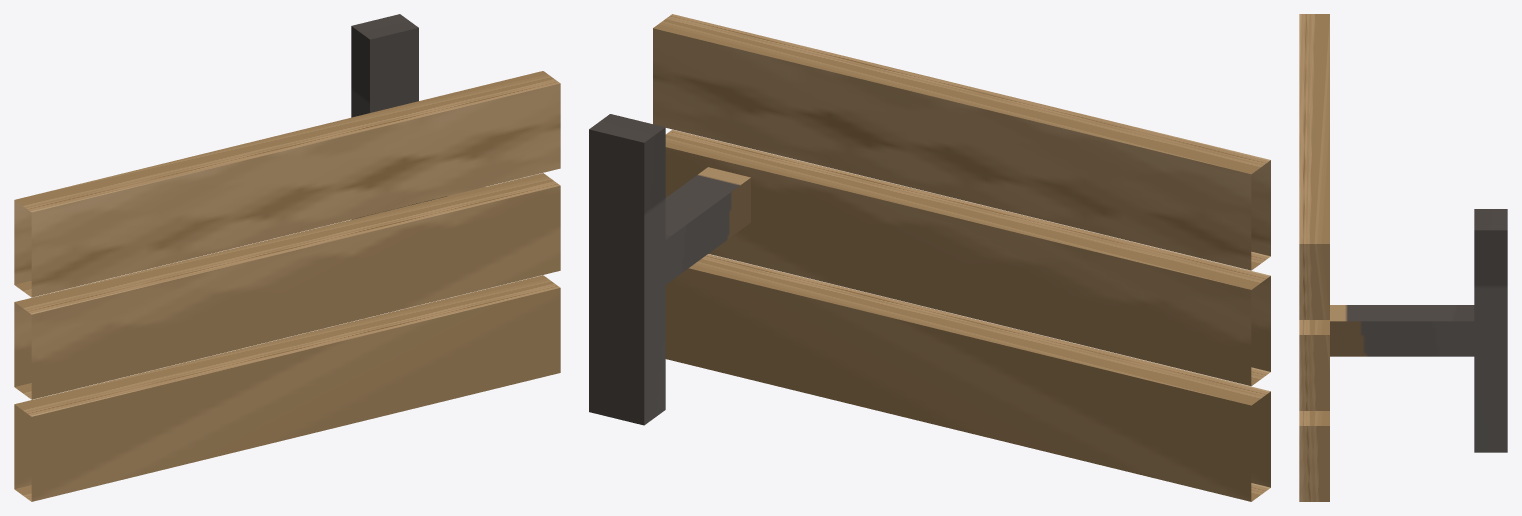
Rendered from pz_benche_seating_indoor_03_sports_1_0.obj.
The picture shows the model from 3 angles, left to right: view 1: azimuth 30°, elevation 25°; view 2: azimuth 150°, elevation 25°; view 3: azimuth 270°, elevation 25°; orthographic projection. The views are drawn at different scales.
Parts seen in each view (by area): view 1: root; view 2: root; view 3: root.
Boxes of the visible parts, x1=… form: root: x1=14, y1=14, x2=560, y2=501; root: x1=589, y1=14, x2=1270, y2=501; root: x1=1299, y1=14, x2=1507, y2=501.
Bounding box in the file's own units: 0.975 × 0.51 × 0.3738.
1 material, 1 textured.
